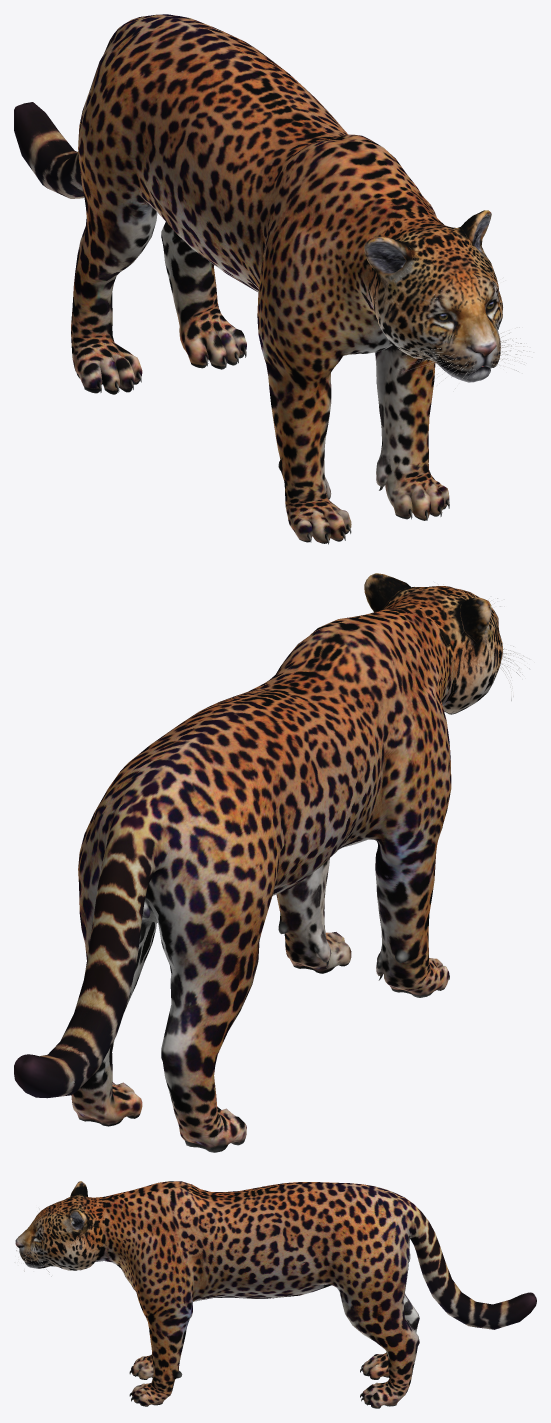
3 views of the same model, one above another, from view 1: azimuth 30°, elevation 25°; view 2: azimuth 150°, elevation 25°; view 3: azimuth 270°, elevation 25° (orthographic). The views are drawn at different scales.
Parts seen in each view (by area): view 1: Jaguar_Jaguar_0; view 2: Jaguar_Jaguar_0; view 3: Jaguar_Jaguar_0.
Part boxes in pixels (box(x1,y1,x2,y2)): Jaguar_Jaguar_0: box(14, 14, 533, 544); Jaguar_Jaguar_0: box(14, 573, 529, 1152); Jaguar_Jaguar_0: box(15, 1181, 536, 1408).
Size of the model in its own units: 0.3643 by 0.7333 by 1.7.
1 material, 1 textured.
